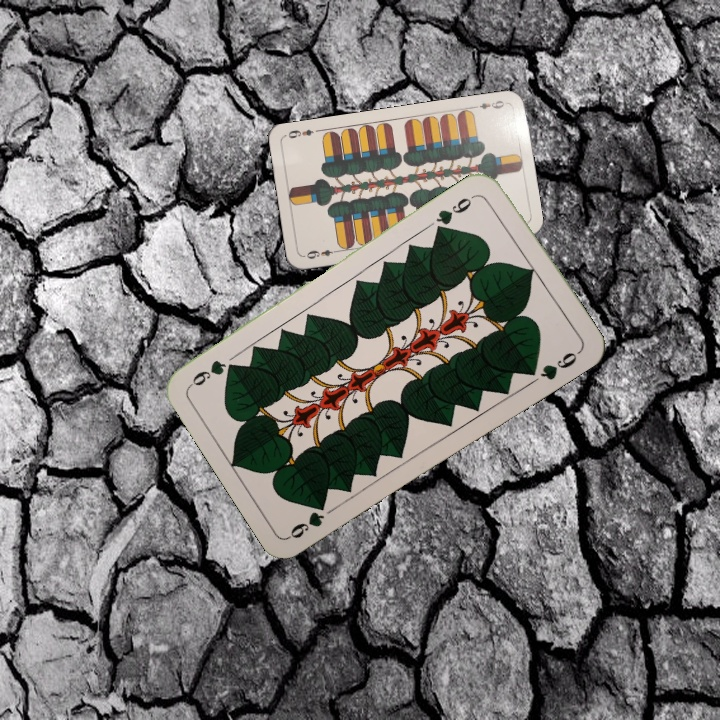E9: (301, 246, 341, 262), (469, 96, 507, 112)
G9: (431, 190, 482, 233), (285, 498, 329, 541)
